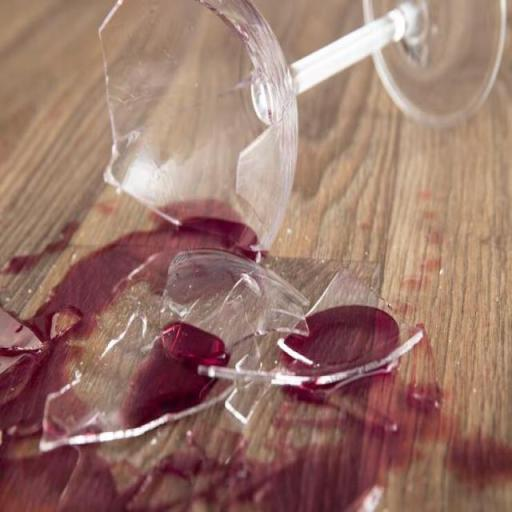glass: (95, 0, 512, 250), (260, 265, 421, 395), (161, 244, 306, 339), (96, 0, 153, 164), (234, 105, 296, 247), (106, 131, 190, 222), (39, 382, 109, 446), (304, 266, 380, 324), (222, 354, 272, 427), (98, 309, 146, 362)
